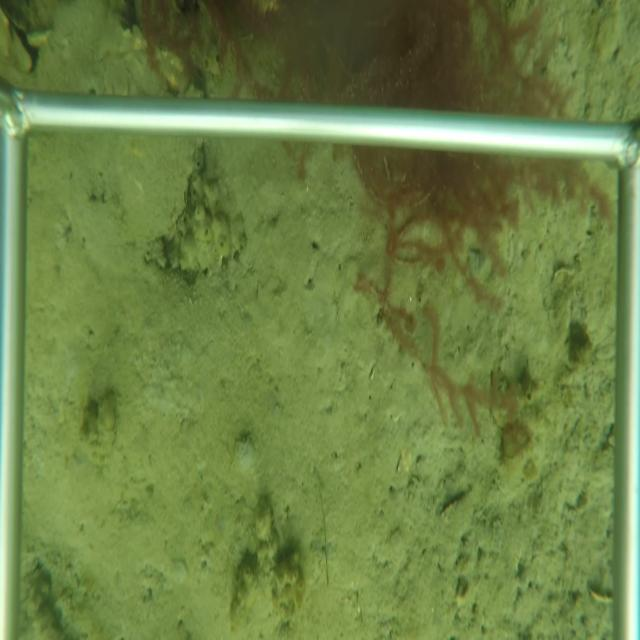Oyster-Closed: (112, 131, 198, 243)
